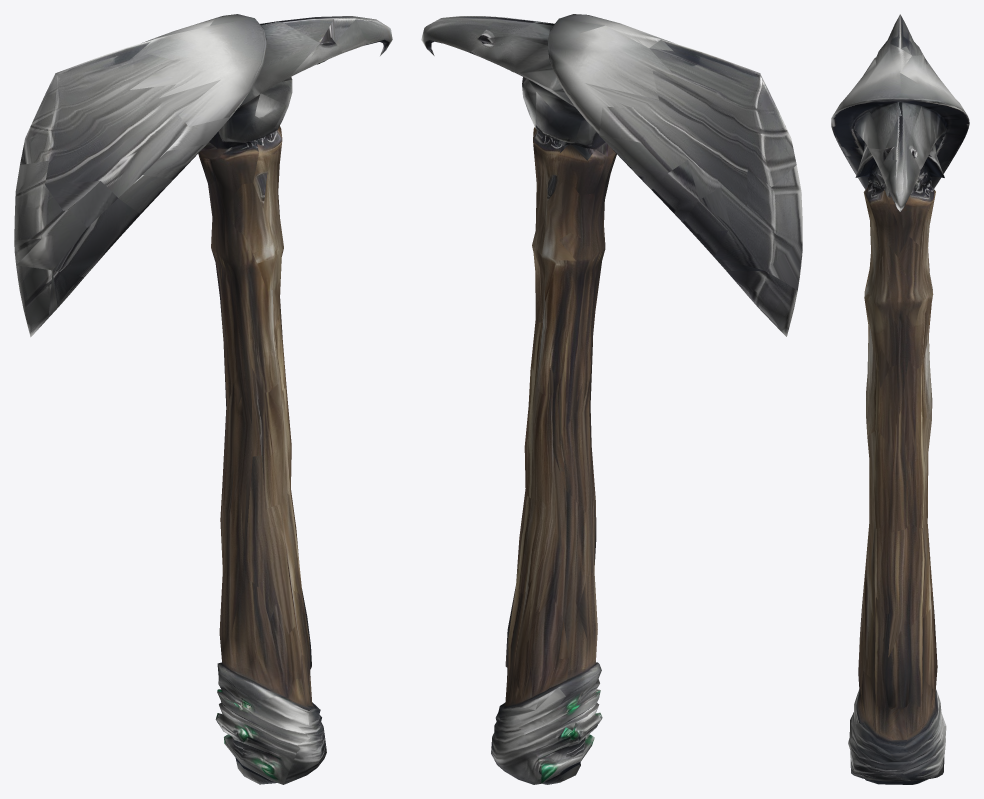
The model's file is DwarfHammer.fbx.
The picture shows the model from 3 angles, left to right: view 1: azimuth 30°, elevation 25°; view 2: azimuth 150°, elevation 25°; view 3: azimuth 270°, elevation 25°; orthographic projection. The views are drawn at different scales.
Visible parts, largest first — view 1: Hammer; view 2: Hammer; view 3: Hammer.
Boxes of the visible parts, x1,y1,x2,y2 form: Hammer: (14,14,392,784); Hammer: (421,14,802,784); Hammer: (831,14,969,784).
Bounding box in the file's own units: 105 × 201 × 36.82.
Materials: 1 (1 with a texture image).
